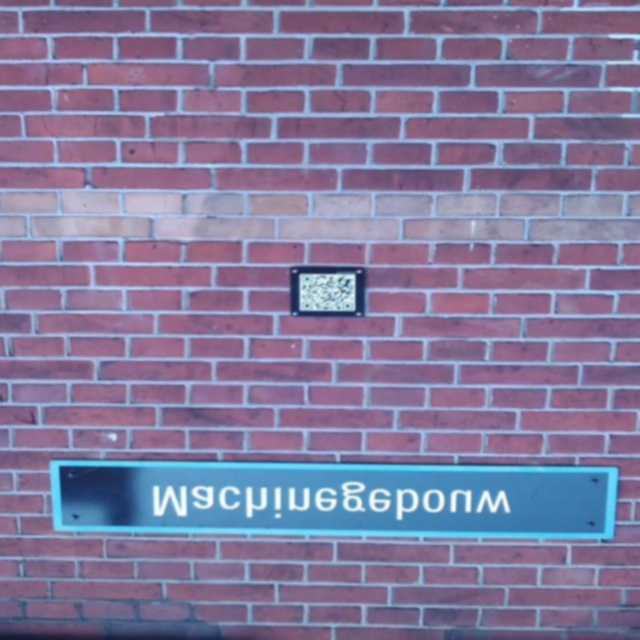qr-code: (302, 276, 353, 309)
